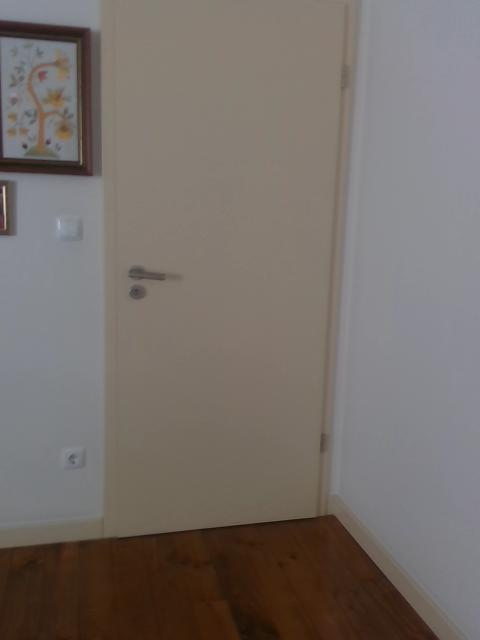door: (114, 1, 346, 541)
